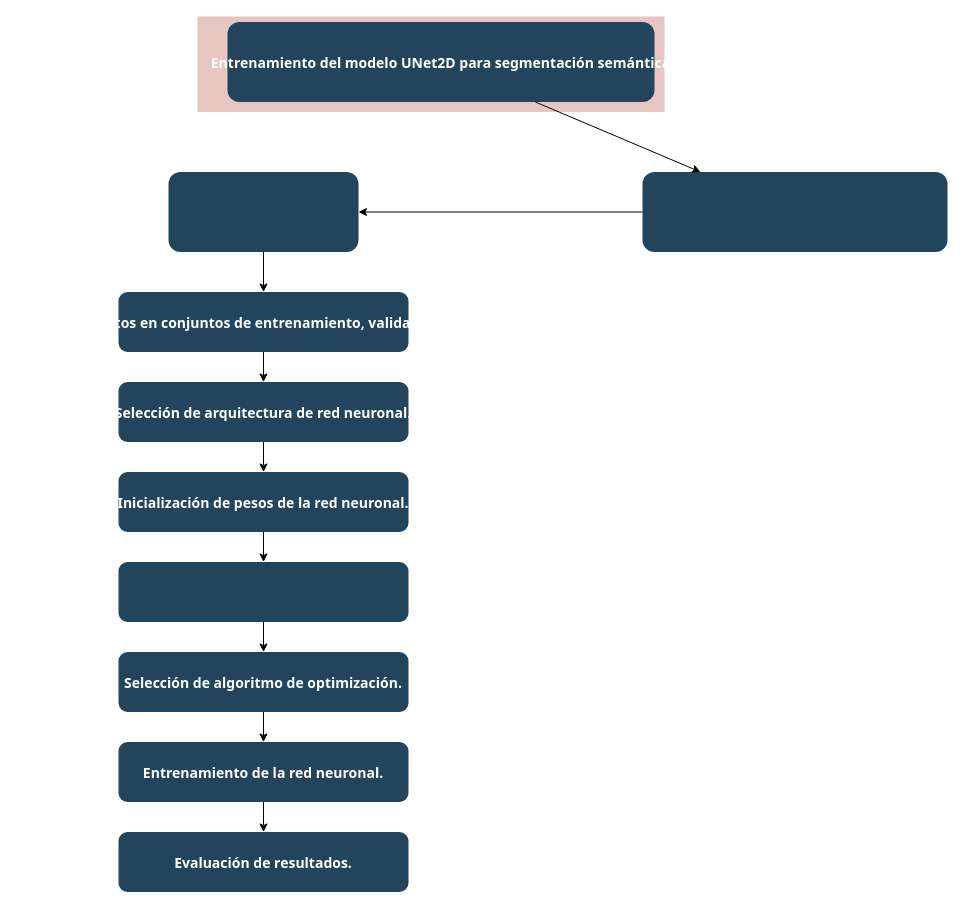
Some shapes in this 964 by 908 pixel diagram are drawn without their labels. Each missing label, with the centre of its shape:
"Definición de función de pérdida." belongs at pixel 263 592.
"Normalización y aumento de datos." belongs at pixel 794 212.
"Preprocesamiento de imágenes." belongs at pixel 263 212.
